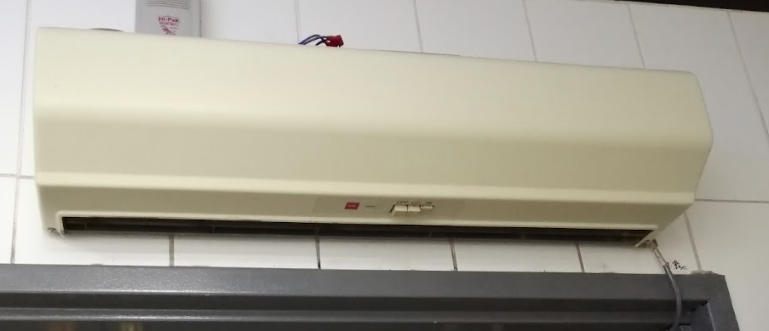Air Curtain: (25, 17, 718, 258)
